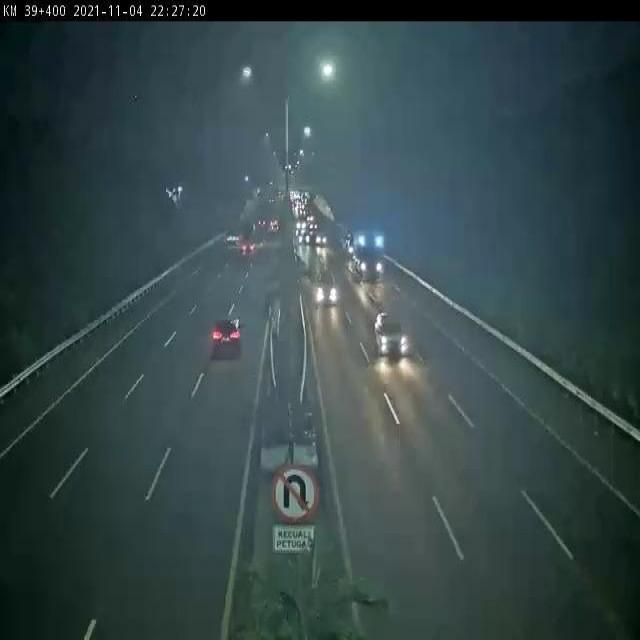car: (372, 311, 407, 353), (212, 317, 243, 355), (313, 273, 335, 304)
truck-m-: (348, 231, 386, 277), (235, 226, 256, 262)
